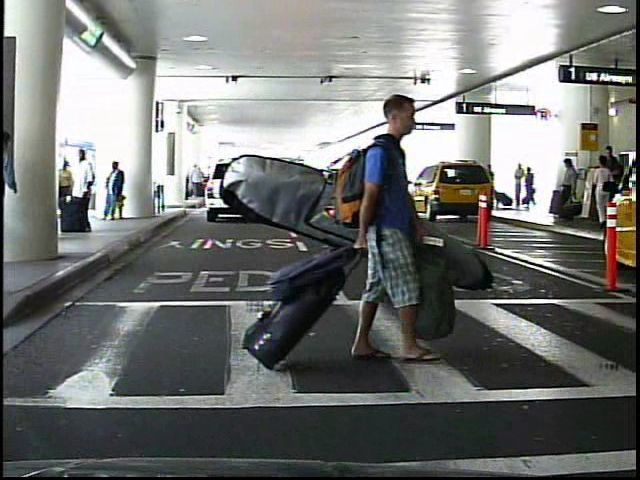person: (336, 85, 440, 375), (70, 146, 97, 236), (585, 155, 612, 229), (102, 161, 129, 227), (555, 157, 579, 225), (55, 158, 74, 231), (599, 143, 616, 223), (511, 162, 526, 209), (522, 164, 532, 208)
